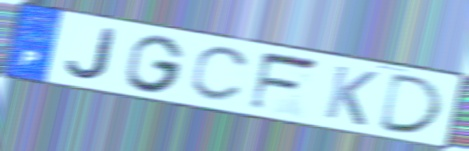C: (186, 45, 254, 105)
D: (374, 71, 447, 137)
F: (245, 49, 323, 114)
G: (123, 34, 188, 95)
J: (64, 26, 119, 82)
K: (320, 62, 381, 129)
